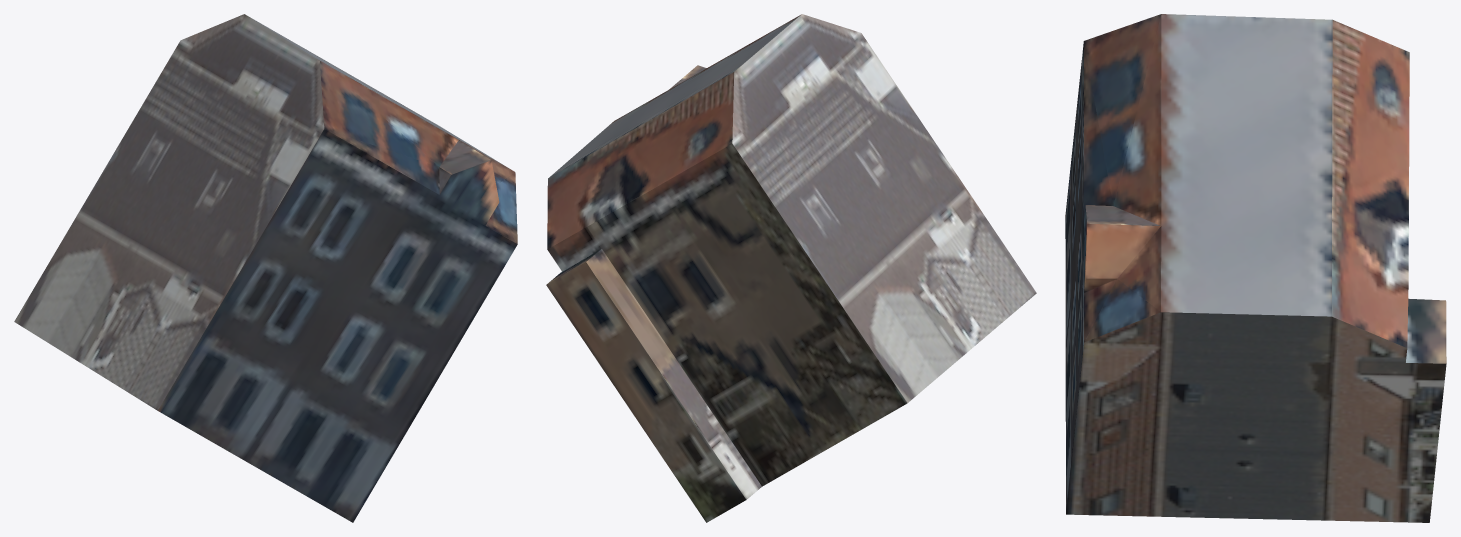
3 renders of one model, left to right at view 1: azimuth 30°, elevation 25°; view 2: azimuth 150°, elevation 25°; view 3: azimuth 270°, elevation 25°, orthographic. The views are drawn at different scales.
Parts seen in each view (by area): view 1: BAG_0599100000688758 (×4); view 2: BAG_0599100000688758 (×4); view 3: BAG_0599100000688758 (×4).
Part boxes in pixels (left/top/right/bottom): BAG_0599100000688758 (×4): left=14, top=14, right=517, bottom=522; BAG_0599100000688758 (×4): left=546, top=14, right=1036, bottom=522; BAG_0599100000688758 (×4): left=1065, top=14, right=1446, bottom=522.
Bounding box in the file's own units: 15.55 × 16.27 × 10.86.
Materials: 5 (5 with a texture image).
